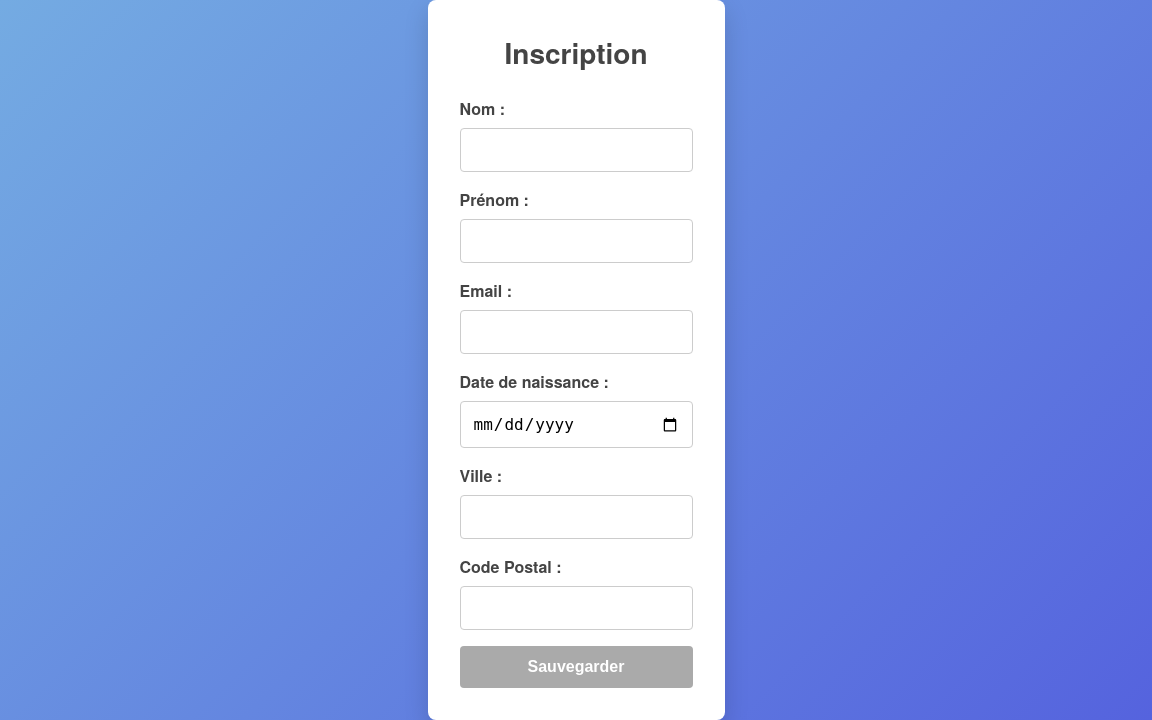
Test case: RegistrationForm Integration Tests › Remplissage des champs active le bouton
The width and height of the screenshot is (1152, 720).
Type "Dupont" into the field labelled "Nom :" at coordinates (576, 150), box 460,128 -> 692,172
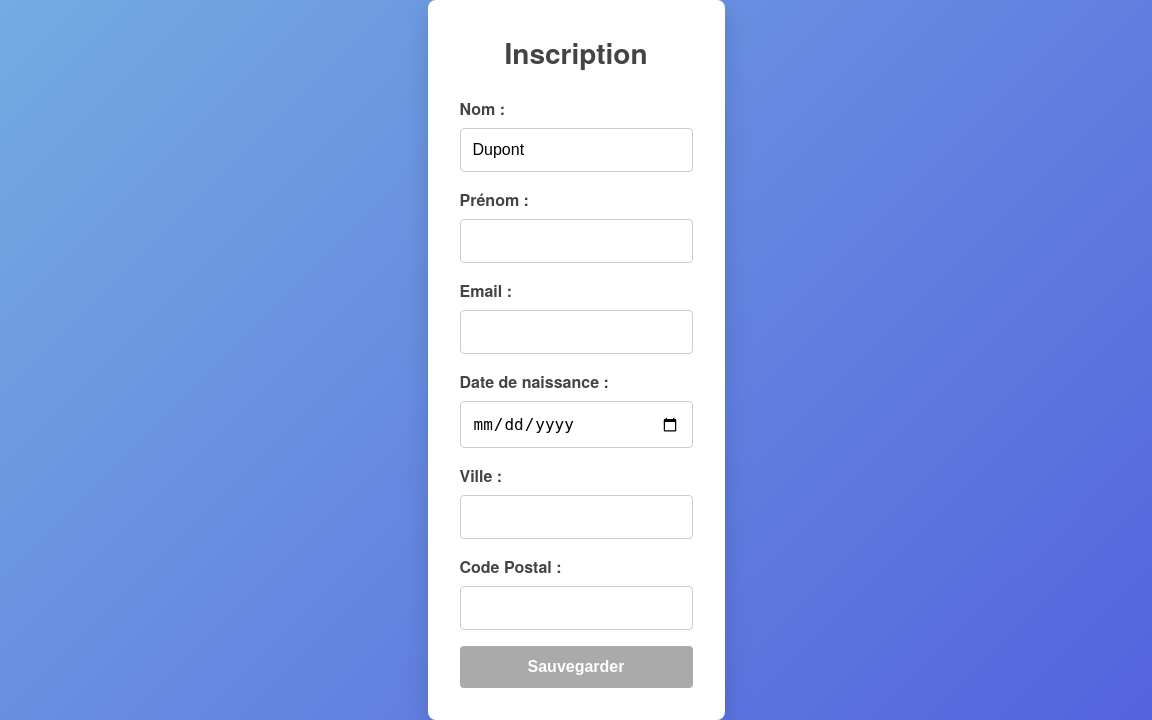
Type "Jean" into the field labelled "Prénom :" at coordinates (576, 241), box 460,219 -> 692,263
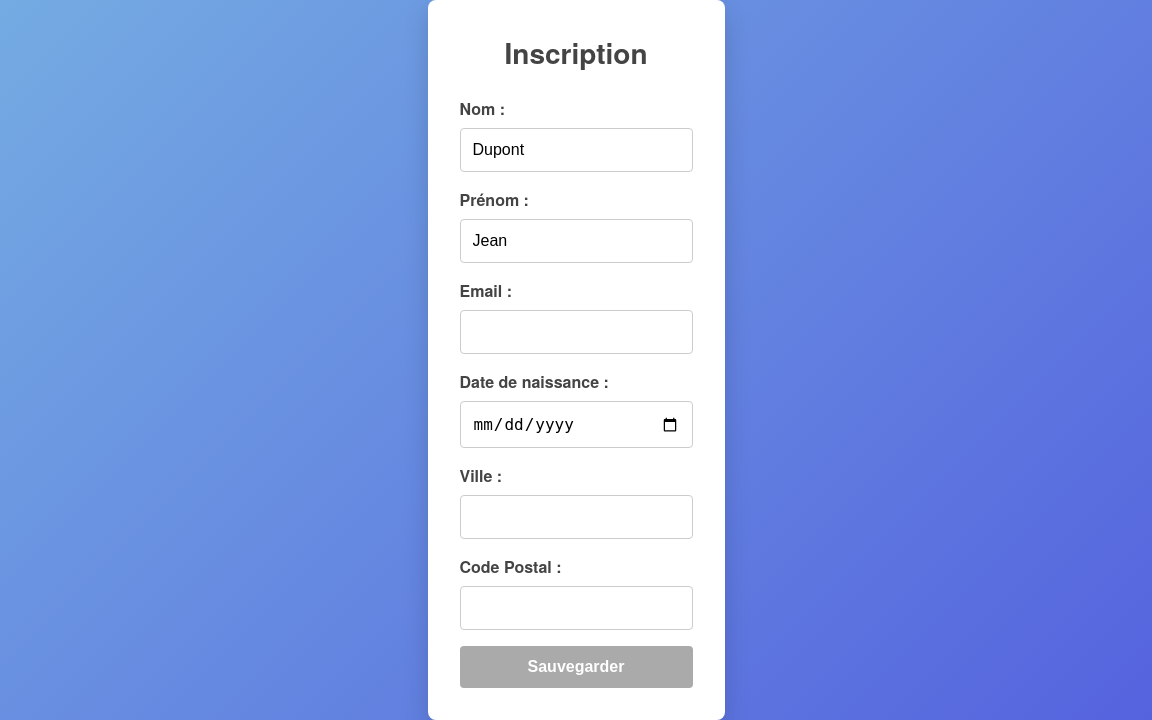
Type "jean.dupont@example.com" into the field labelled "Email :" at coordinates (576, 332), box 460,310 -> 692,354
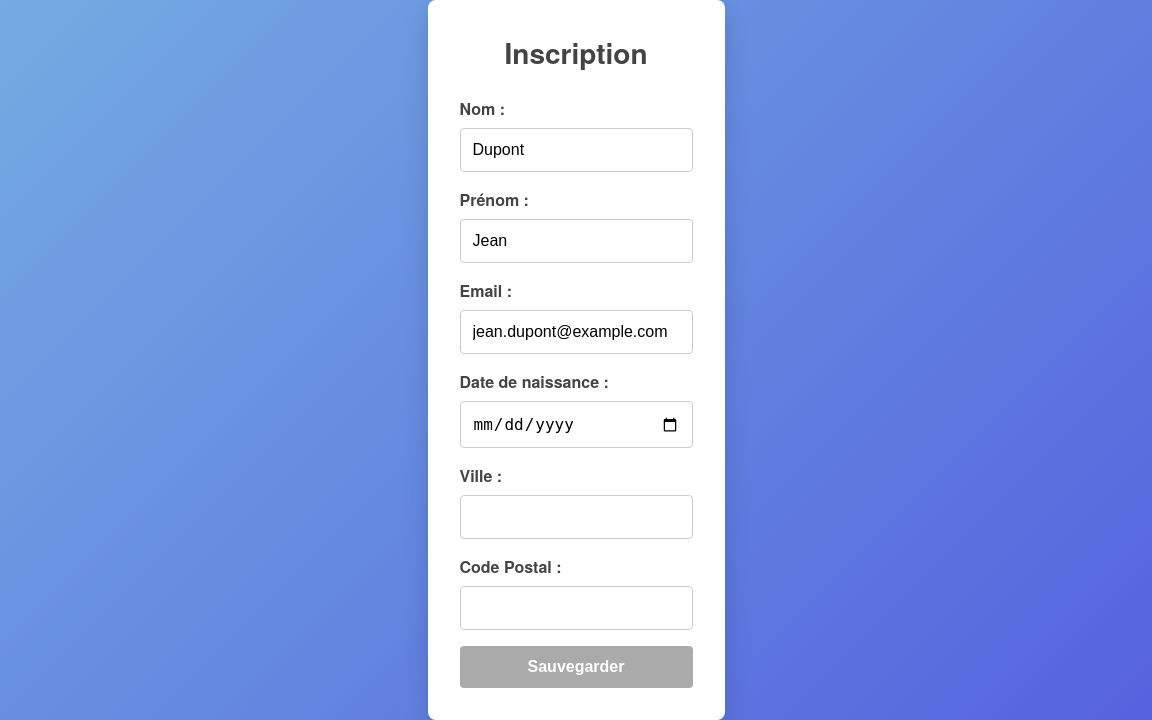
Type "1990-01-01" into the date field labelled "Date de naissance :" at coordinates (576, 424), box 460,401 -> 692,448
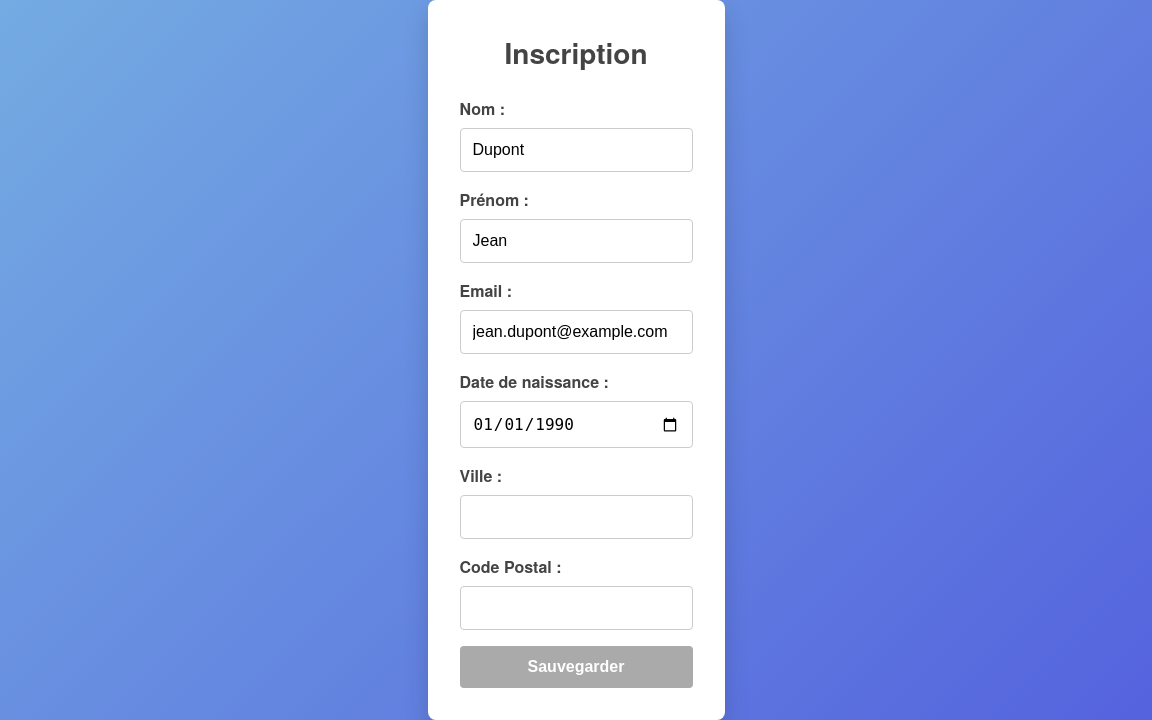
Type "Paris" into the field labelled "Ville :" at coordinates (576, 517), box 460,495 -> 692,539
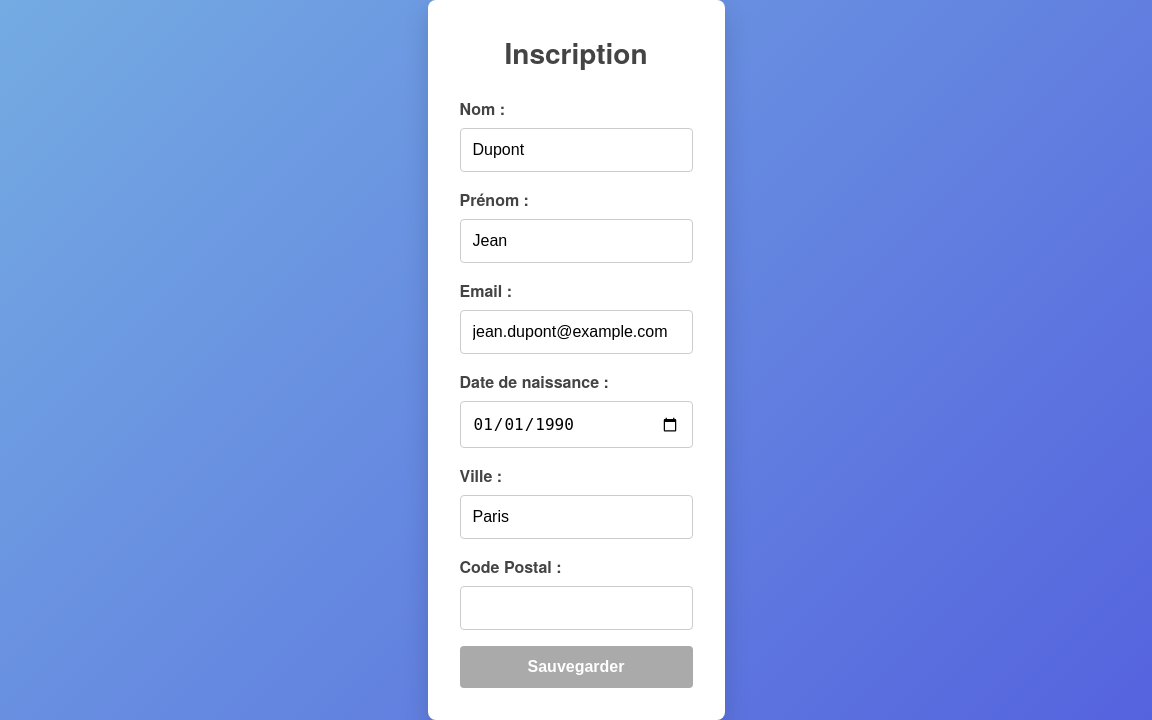
Type "75001" into the field labelled "Code Postal :" at coordinates (576, 608), box 460,586 -> 692,630
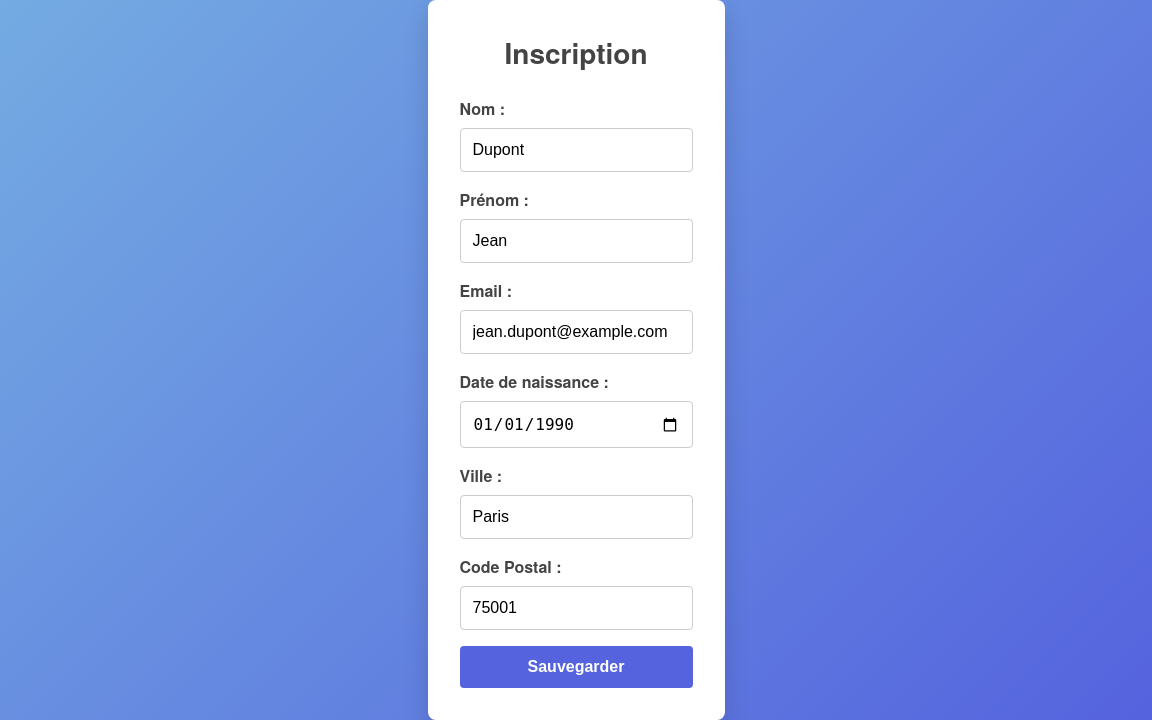
expect the button "Sauvegarder" is enabled: met, box 460,646 -> 692,688
